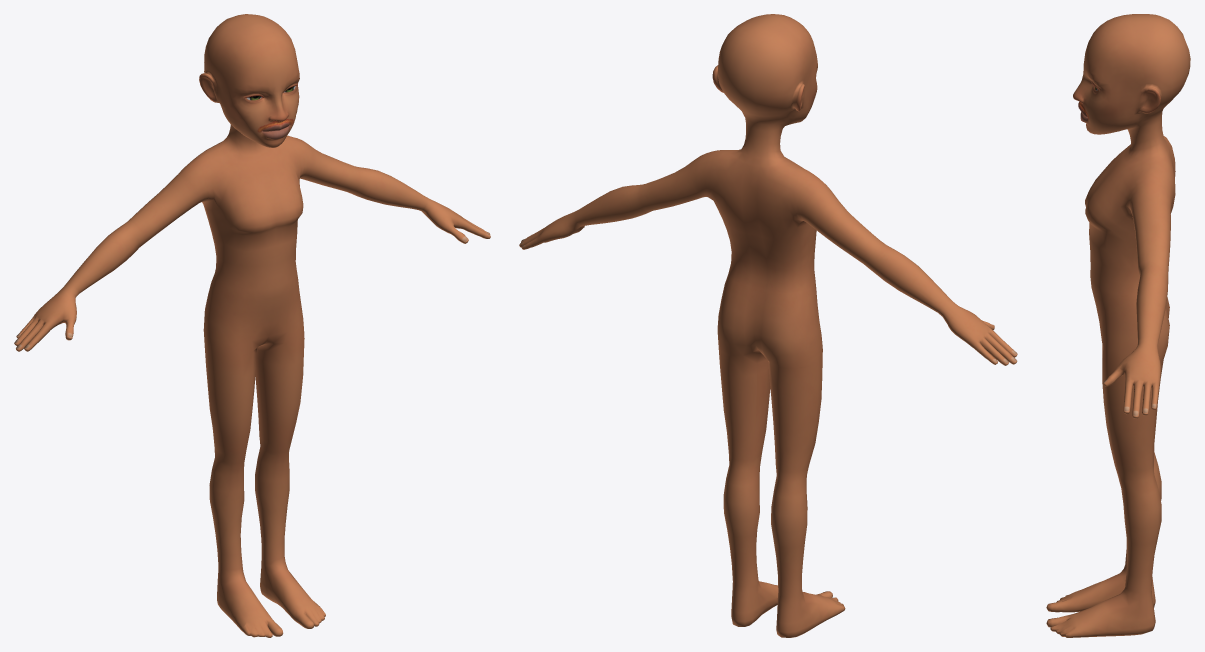
The model's file is frame_0022.glb.
3 renders of one model, left to right at view 1: azimuth 30°, elevation 25°; view 2: azimuth 150°, elevation 25°; view 3: azimuth 270°, elevation 25°, orthographic. The views are drawn at different scales.
Parts seen in each view (by area): view 1: frame_0022_head_geo; view 2: frame_0022_head_geo; view 3: frame_0022_head_geo.
Boxes of the visible parts, left/top/right/bottom form: frame_0022_head_geo: left=14, top=14, right=490, bottom=637; frame_0022_head_geo: left=519, top=14, right=1017, bottom=637; frame_0022_head_geo: left=1046, top=14, right=1190, bottom=637.
Size of the model in its own units: 1.28 by 1.5 by 0.3253.
3 materials, 3 textured.
